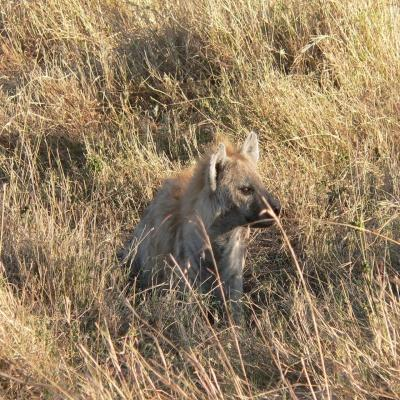hyenas: (120, 131, 336, 352)
